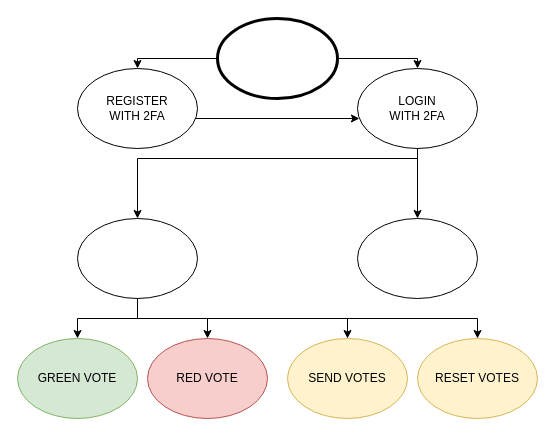
Image size: 555x436. Some labels were removed from this diagram. Here are the shapes that lost their labels. From the top down, the box of each, then its label:
(216, 16, 338, 100): VOTING USER
(76, 218, 198, 298): CHOOSE POLL
(356, 218, 478, 298): LOGOUT
